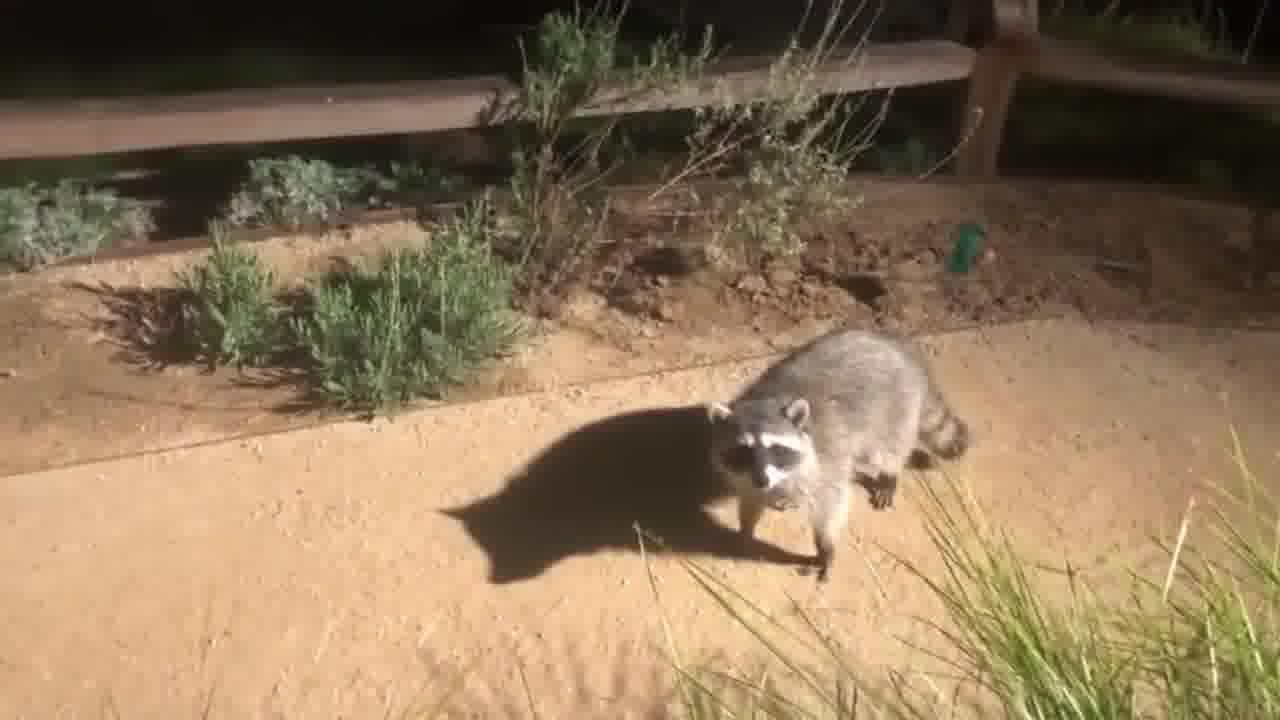raccoon: (709, 328, 974, 585)
